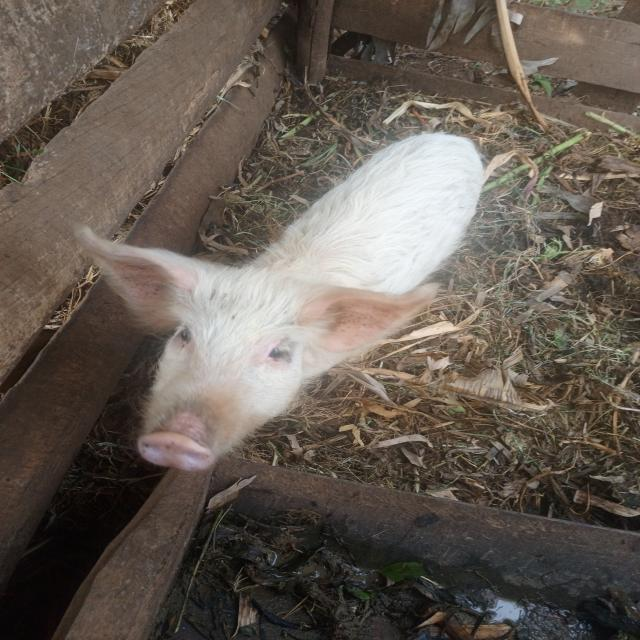pig: (37, 92, 524, 510)
